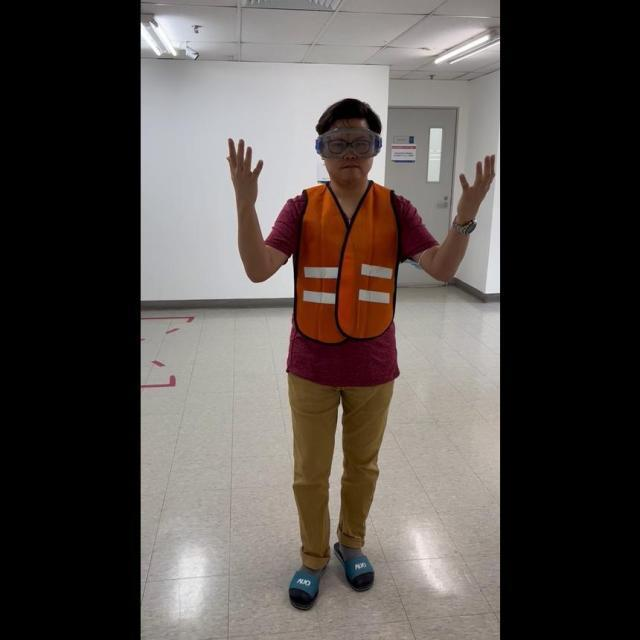bare_hand: (454, 148, 496, 232), (224, 130, 263, 211)
